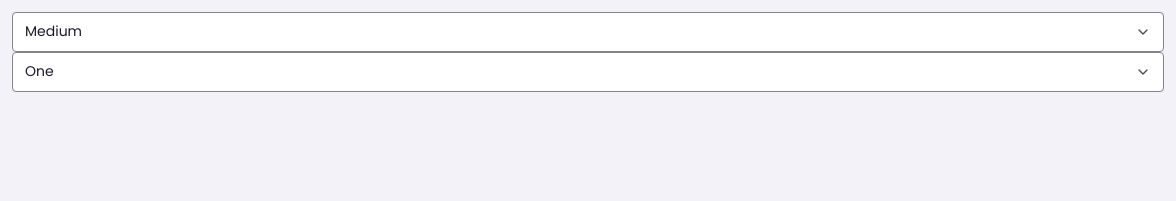
Dropdown › uncontrolled: defaultValue shows, choosing keeps its own state; no default shows the first option
The width and height of the screenshot is (1176, 201).
Expected: the dropdown named "Plain" reads "One", [12,52,1164,92]
What coordinates should you click on to do the following:
click the dropdown named "Size"
I would click on:
 (54, 31)
Its box is [12,12,1164,52].
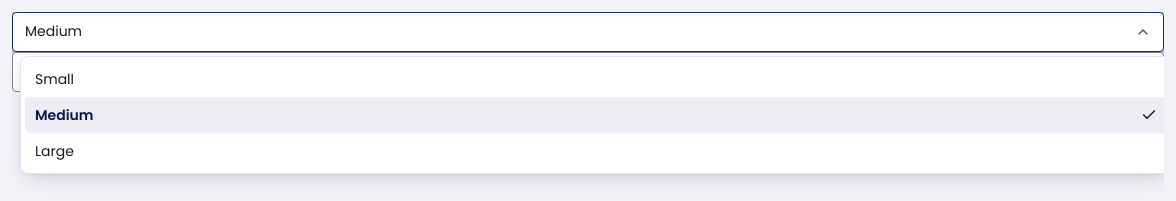
What coordinates should you click on to do the following:
click the option "Large"
I would click on:
 (54, 151)
Its box is [35,141,74,161].
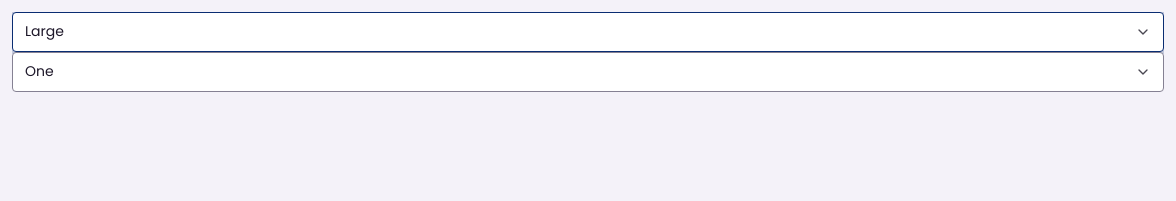
Expected: the dropdown named "Size" reads "Large", [12,12,1164,52]
